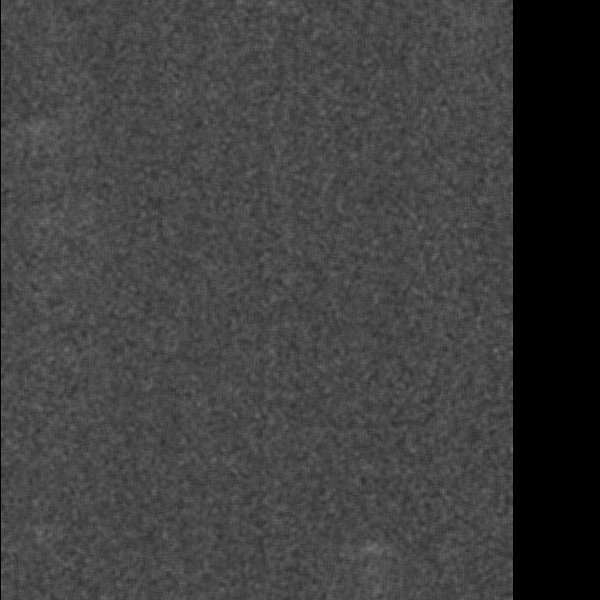spark: (460, 305, 499, 412), (188, 495, 218, 555), (340, 343, 367, 393), (312, 87, 341, 133), (477, 29, 501, 75)
